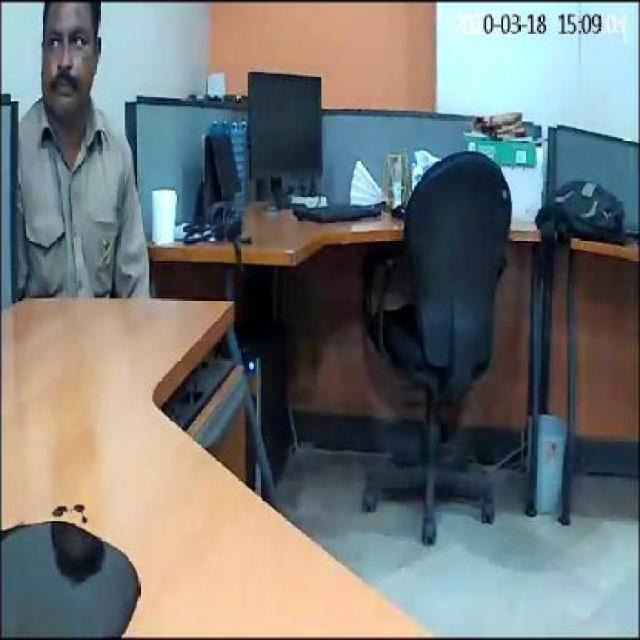spill: (2, 513, 138, 636)
